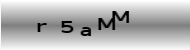5: (59, 20, 74, 33)
M: (97, 17, 115, 30), (111, 10, 129, 23)
a: (79, 26, 92, 36)
r: (36, 22, 48, 33)
